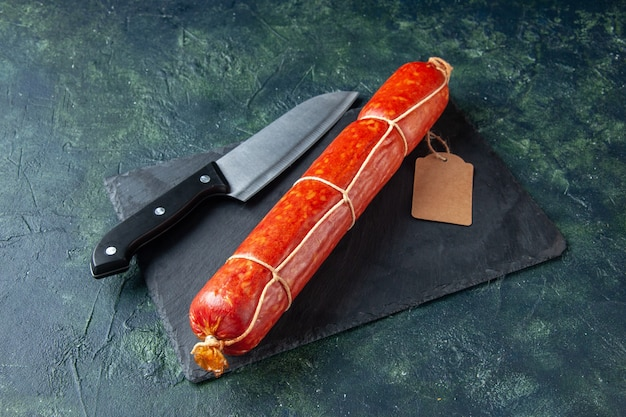knife: (87, 87, 361, 279)
